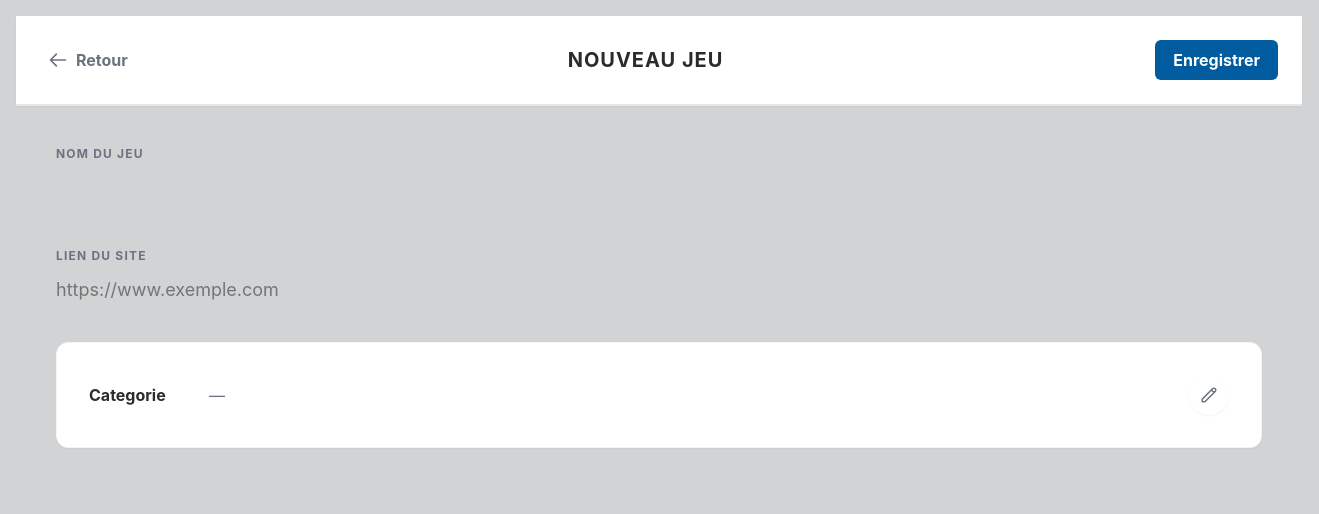
Test: bouton Enregistrer de l’en-tête › bloque un nom vide sans appeler l’API
Click the button "Enregistrer".
click(1217, 60)  # box 1155,40 -> 1278,80
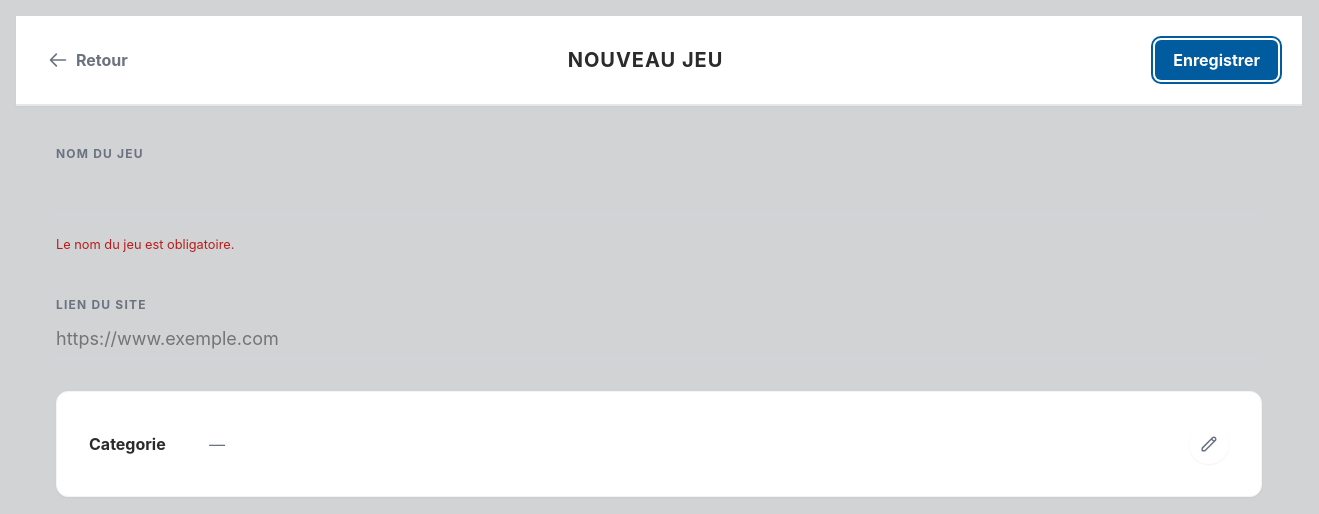
expect the text "Le nom du jeu est obligatoire." is shown: met, box 56,237 -> 234,252
